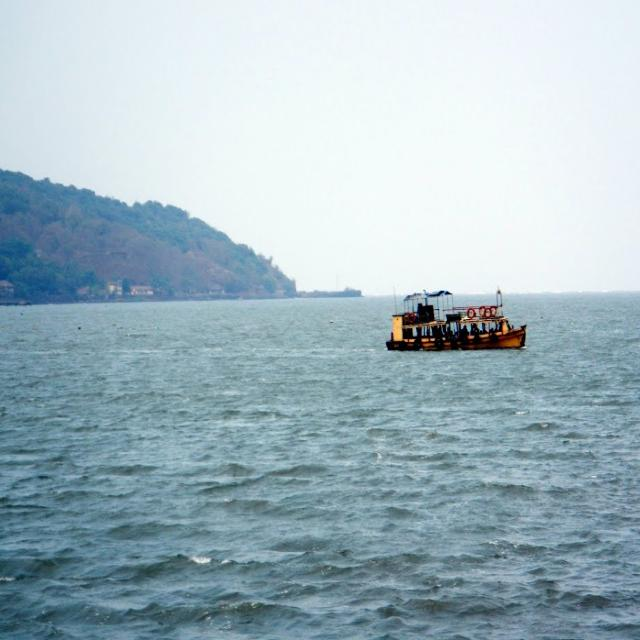fishing boat: (384, 286, 538, 362)
